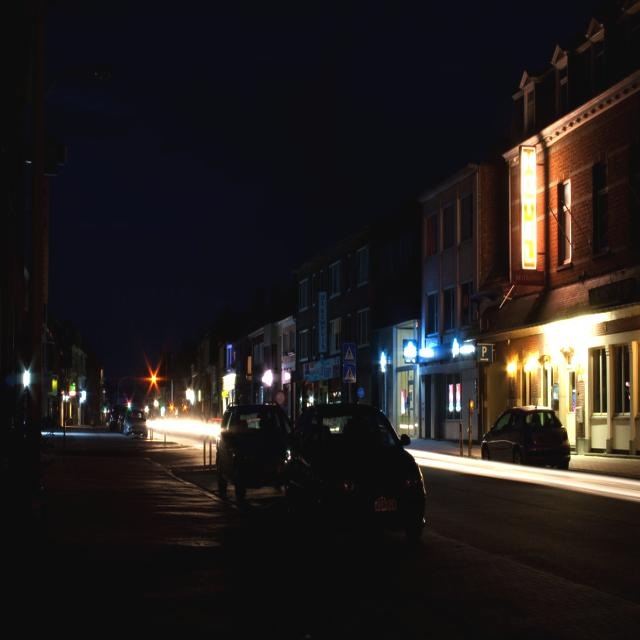Car: (283, 405, 428, 548)
